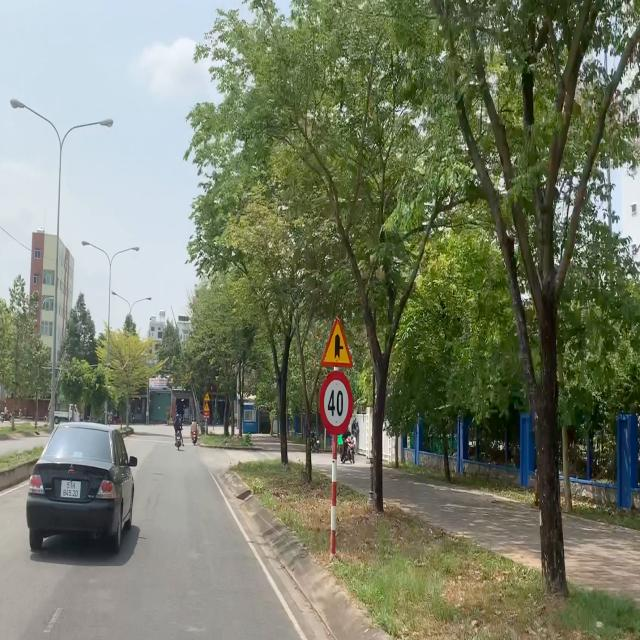Duong giao nhau: (203, 391, 210, 402)
Giao voi duong khong uu tien: (320, 316, 354, 368)
Nguoi di bo cat ngang: (204, 402, 210, 412)
Toc do toi da: (320, 374, 354, 433)
